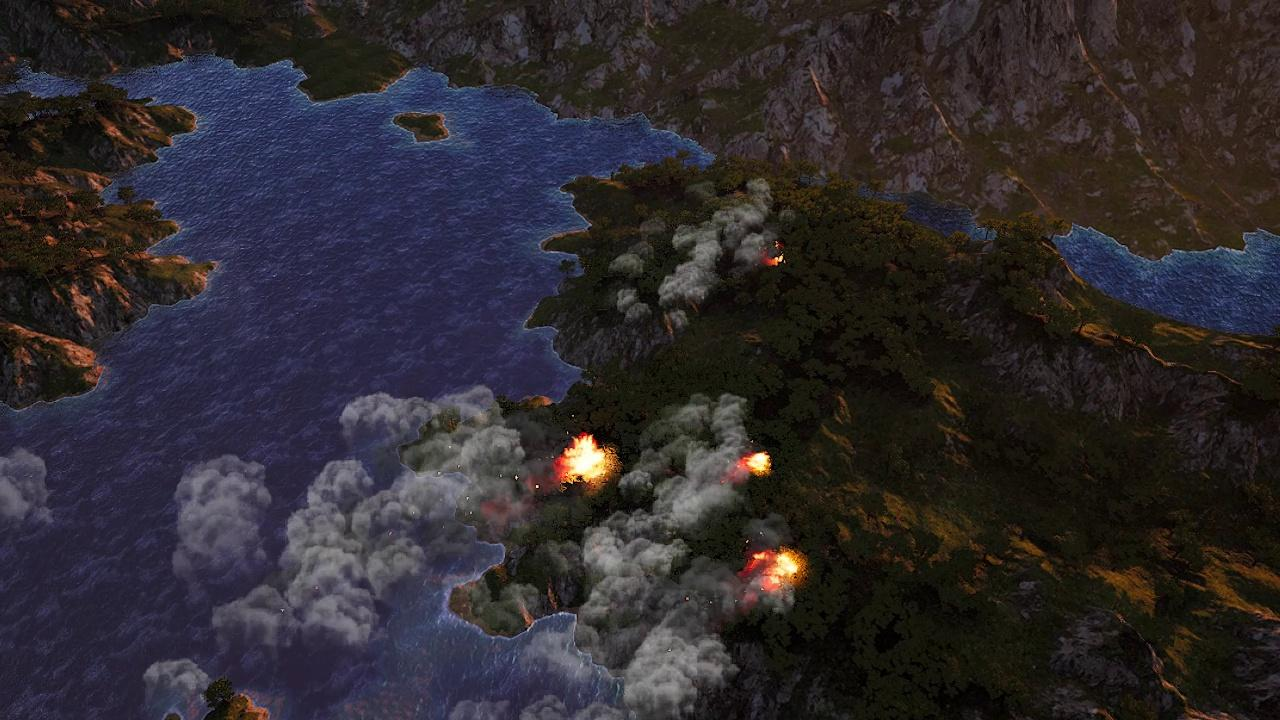fire: (748, 547, 806, 589), (559, 436, 611, 482), (744, 453, 773, 475), (765, 242, 784, 266)
smoke: (164, 385, 533, 670), (540, 389, 800, 717), (613, 178, 784, 329), (140, 655, 217, 720), (0, 446, 54, 530)
